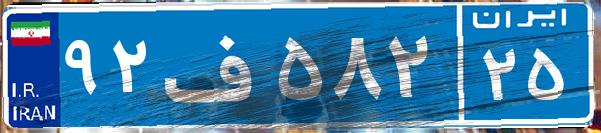2: (385, 28, 445, 110), (475, 38, 525, 113), (110, 28, 158, 105)
5: (273, 28, 330, 110), (525, 38, 570, 115)
8: (330, 28, 385, 110)
9: (57, 26, 110, 107)
ف: (158, 15, 273, 115)
